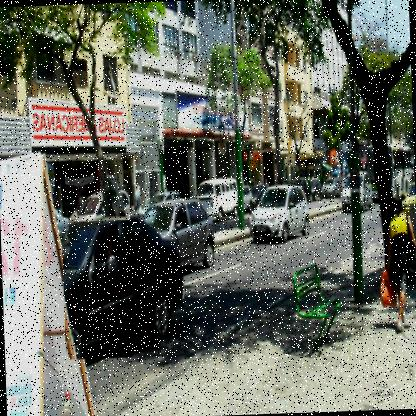Car: (60, 204, 186, 360), (146, 198, 214, 270), (247, 186, 309, 238), (76, 190, 130, 223), (136, 188, 180, 228), (341, 169, 373, 210), (321, 176, 342, 200), (400, 177, 415, 209), (51, 208, 69, 232)
